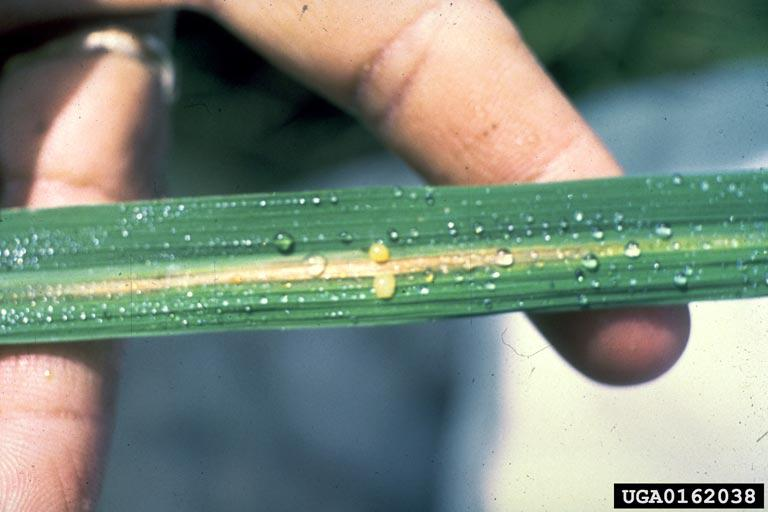2 BacterialBlight: (40, 221, 745, 280)
